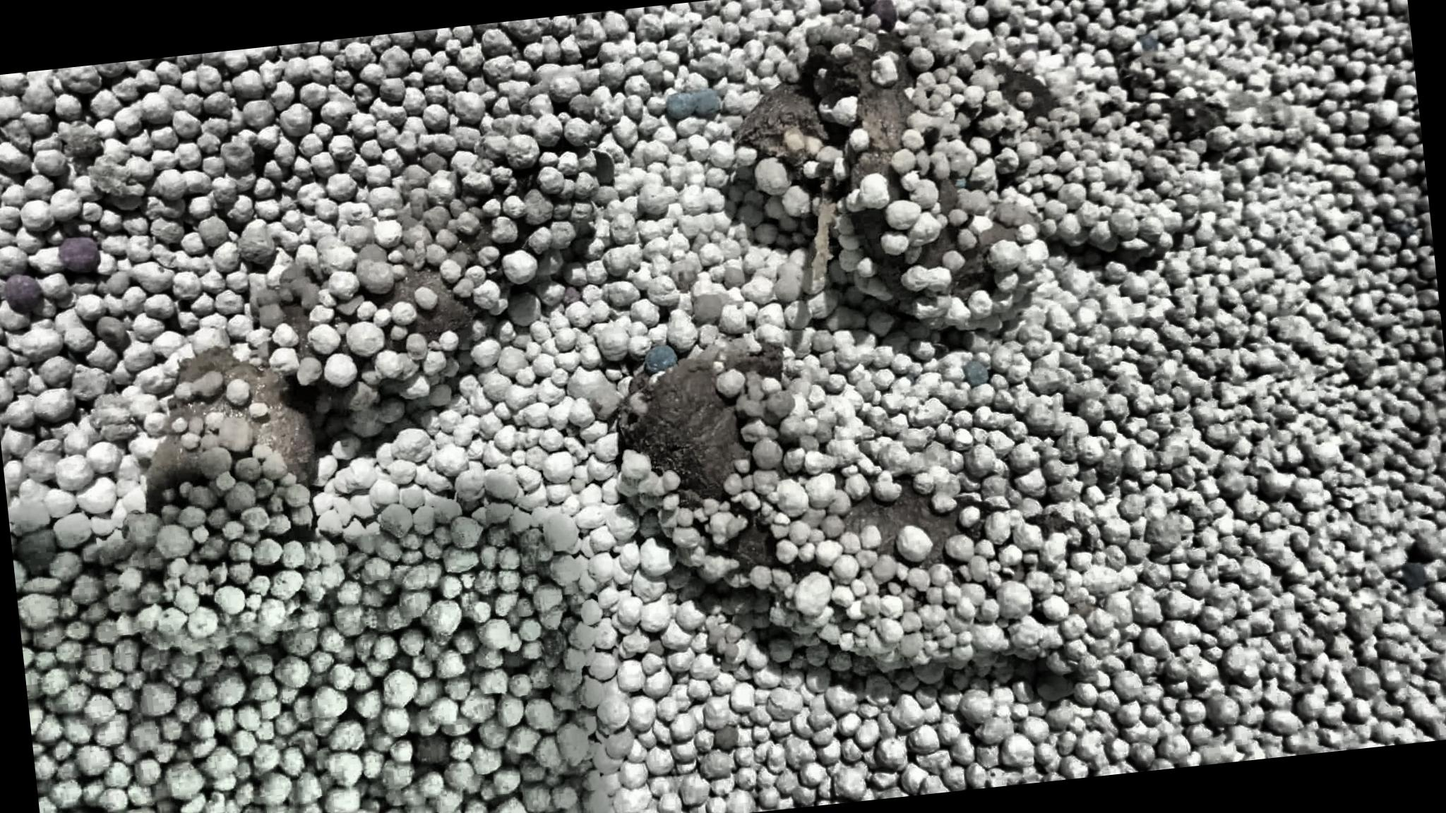poop: (566, 322, 1130, 681), (145, 134, 598, 565), (732, 22, 1242, 330)
